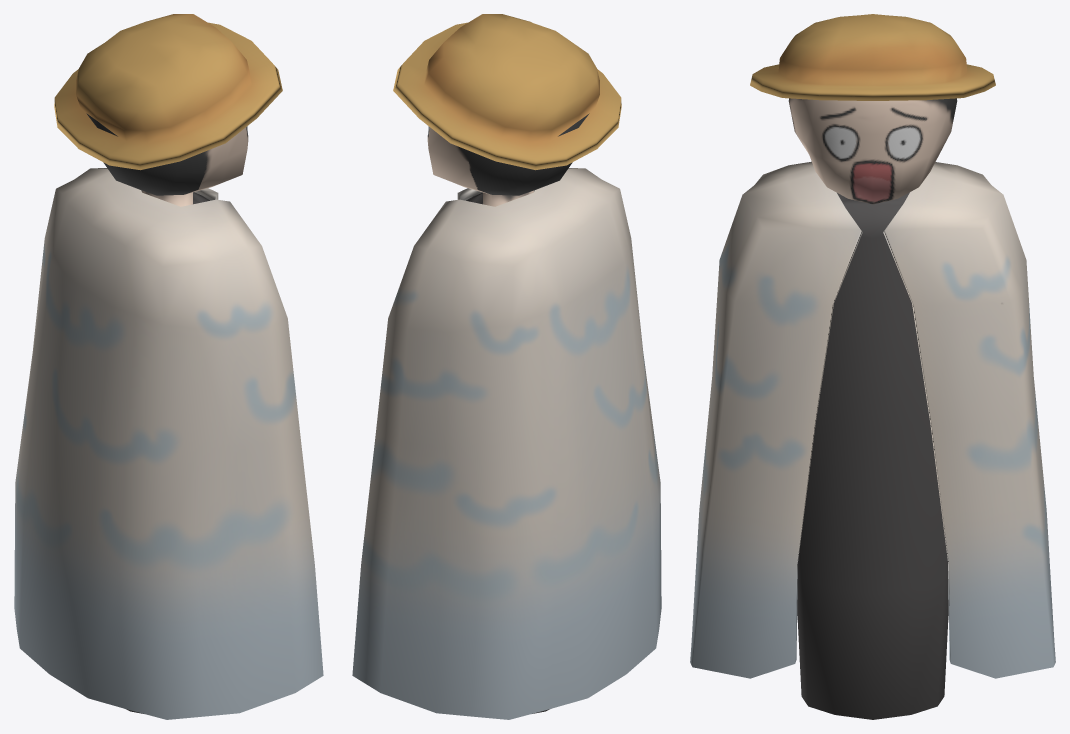
Rendered from enemy.fbx.
3 renders of one model, left to right at view 1: azimuth 30°, elevation 25°; view 2: azimuth 150°, elevation 25°; view 3: azimuth 270°, elevation 25°, orthographic. The views are drawn at different scales.
Parts seen in each view (by area): view 1: pCube3, pCube4, pCube1, pCube2; view 2: pCube3, pCube4, pCube1, pCube2; view 3: pCube3, pCube2, pCube4, pCube1.
Part boxes in pixels (left/top/right/bottom): pCube3: left=14, top=168, right=323, bottom=719; pCube4: left=54, top=14, right=282, bottom=170; pCube1: left=86, top=113, right=248, bottom=195; pCube2: left=126, top=190, right=209, bottom=713; pCube3: left=352, top=168, right=661, bottom=719; pCube4: left=393, top=14, right=621, bottom=170; pCube1: left=427, top=113, right=589, bottom=195; pCube2: left=466, top=190, right=549, bottom=713; pCube3: left=690, top=161, right=1055, bottom=678; pCube2: left=797, top=192, right=948, bottom=719; pCube4: left=750, top=14, right=995, bottom=100; pCube1: left=788, top=98, right=957, bottom=204.
Size of the model in its own units: 87.62 by 254 by 126.
